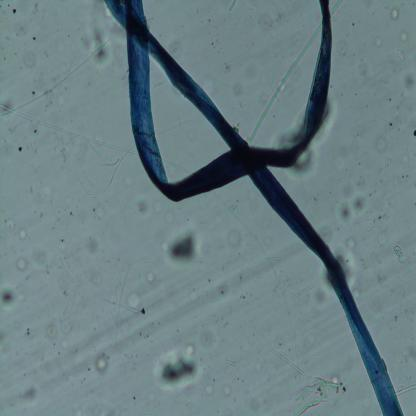Background material: (152, 338, 202, 392), (289, 376, 344, 415), (79, 24, 112, 68), (168, 229, 202, 267), (8, 384, 38, 412), (340, 192, 364, 224), (200, 366, 221, 397), (30, 246, 52, 274), (56, 316, 74, 350), (397, 68, 416, 94), (0, 283, 17, 309), (133, 196, 153, 218), (17, 53, 39, 72), (372, 130, 390, 153), (152, 230, 170, 253), (0, 328, 13, 356), (92, 354, 108, 376), (200, 330, 214, 355), (161, 210, 180, 228), (187, 283, 200, 308), (226, 224, 240, 247), (85, 235, 100, 256), (44, 323, 58, 345), (15, 224, 29, 245), (126, 294, 143, 311), (394, 242, 406, 264), (367, 252, 383, 268), (14, 255, 27, 274), (396, 48, 409, 66), (344, 235, 358, 250), (364, 218, 377, 234), (376, 268, 389, 284), (338, 38, 349, 56), (388, 7, 402, 21), (2, 219, 18, 231), (96, 201, 108, 215), (1, 138, 12, 153), (58, 285, 69, 300), (58, 145, 66, 165), (398, 31, 410, 44), (327, 374, 340, 386), (222, 382, 233, 396), (374, 36, 385, 50), (147, 271, 157, 286), (380, 73, 390, 87), (5, 121, 15, 134), (55, 206, 63, 221), (47, 99, 60, 107), (236, 292, 246, 302), (30, 4, 37, 18), (367, 188, 377, 197), (80, 374, 88, 385), (412, 119, 416, 139), (42, 47, 50, 57), (29, 89, 39, 97), (140, 331, 150, 339), (354, 115, 364, 123), (28, 186, 34, 198), (219, 285, 226, 295), (131, 387, 136, 401), (29, 34, 38, 41), (64, 6, 70, 16), (377, 214, 384, 222), (399, 173, 407, 179), (30, 128, 38, 134), (68, 211, 74, 218), (11, 7, 17, 14), (87, 364, 92, 372), (19, 147, 24, 154), (27, 327, 30, 338), (38, 214, 44, 219), (366, 86, 372, 90), (142, 310, 146, 316), (388, 96, 392, 102), (394, 316, 398, 322), (6, 4, 12, 8), (92, 207, 96, 212), (339, 92, 343, 97), (207, 278, 210, 283), (351, 23, 355, 26)
Cotton: (105, 0, 404, 415), (122, 1, 333, 203)
Easylift tab: (388, 120, 394, 128)
Glass filter fibre: (215, 190, 299, 348), (248, 24, 322, 145), (0, 43, 105, 116), (0, 103, 137, 156), (79, 148, 131, 197), (113, 262, 131, 345), (271, 347, 305, 378), (42, 224, 85, 240), (0, 192, 18, 214), (60, 260, 76, 284), (330, 118, 342, 149), (290, 284, 312, 300), (130, 253, 159, 265), (0, 242, 17, 257), (395, 383, 416, 395), (312, 361, 324, 379), (382, 156, 392, 176), (224, 356, 238, 370), (330, 1, 343, 16), (115, 356, 127, 370), (226, 0, 237, 14), (0, 5, 6, 21), (137, 275, 142, 286), (336, 176, 341, 185)
